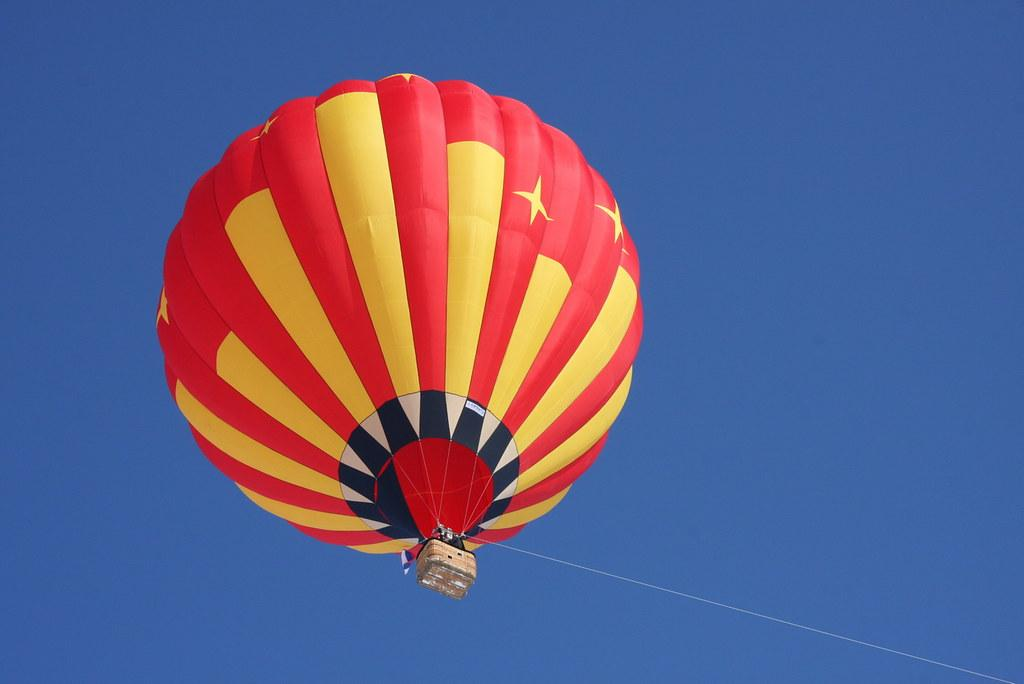balloon: (155, 72, 645, 600)
